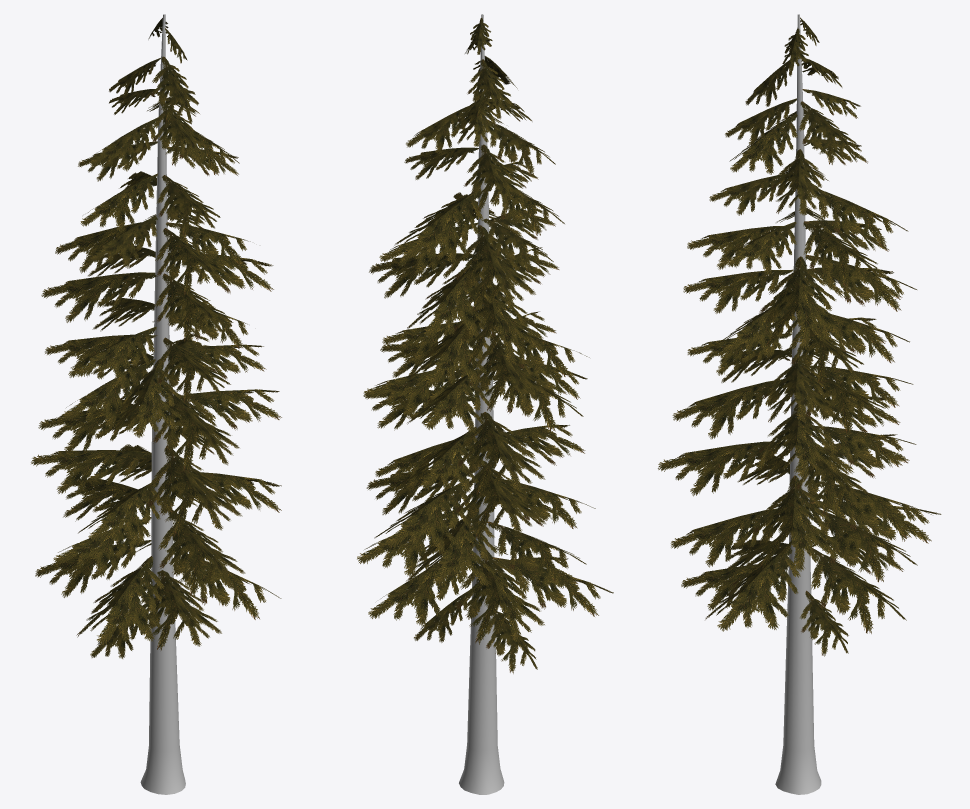
File: pine_tree_n_3_2.obj
3 renders of one model, left to right at view 1: azimuth 30°, elevation 25°; view 2: azimuth 150°, elevation 25°; view 3: azimuth 270°, elevation 25°, orthographic.
Visible parts, largest first — view 1: pine_tree_n_3_2; view 2: pine_tree_n_3_2; view 3: pine_tree_n_3_2.
Part boxes in pixels (left/top/right/bottom): pine_tree_n_3_2: left=31, top=14, right=281, bottom=794; pine_tree_n_3_2: left=357, top=14, right=613, bottom=794; pine_tree_n_3_2: left=658, top=14, right=941, bottom=794.
Size of the model in its own units: 2.69 by 8.19 by 2.97.
